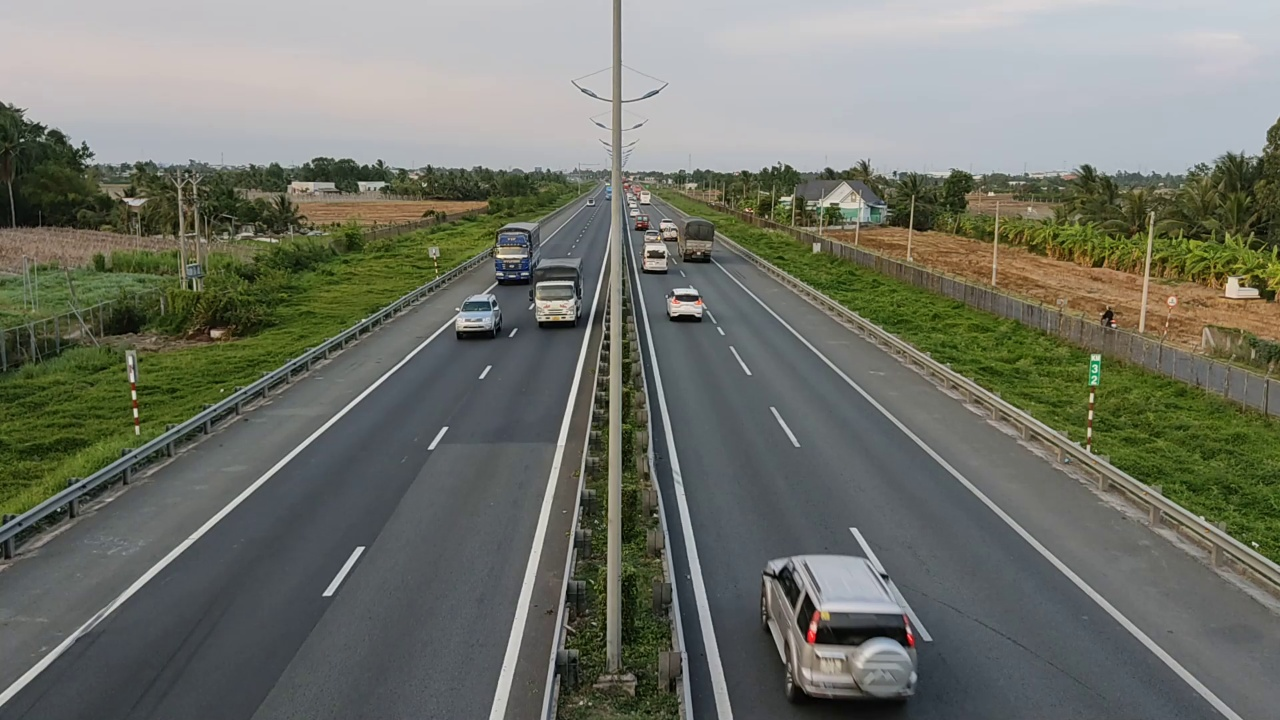car: (759, 553, 921, 703), (526, 256, 584, 333), (494, 221, 541, 284), (454, 293, 503, 339), (665, 286, 704, 321), (642, 240, 668, 273)
